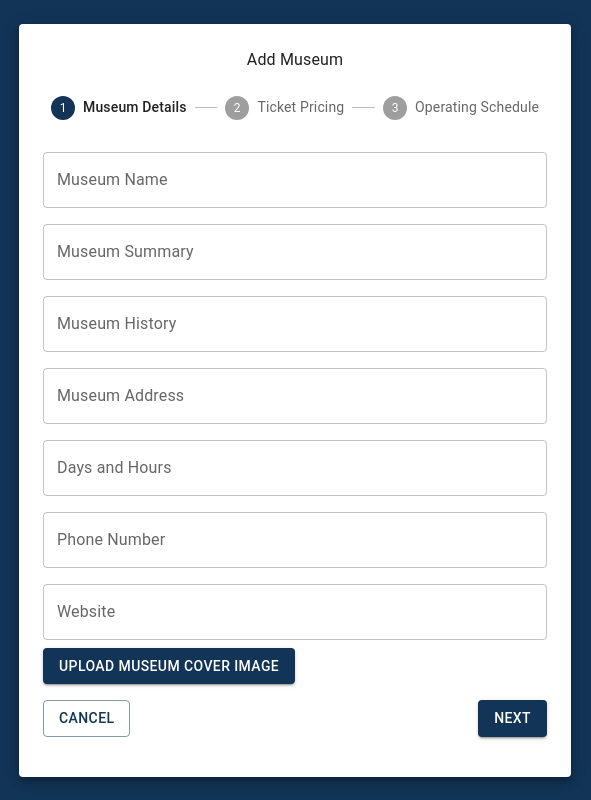
Test: AddMuseum Component › validates museum name
The width and height of the screenshot is (591, 800).
Step 1. Click the button "Next" → (513, 718), box [478,700,547,736]
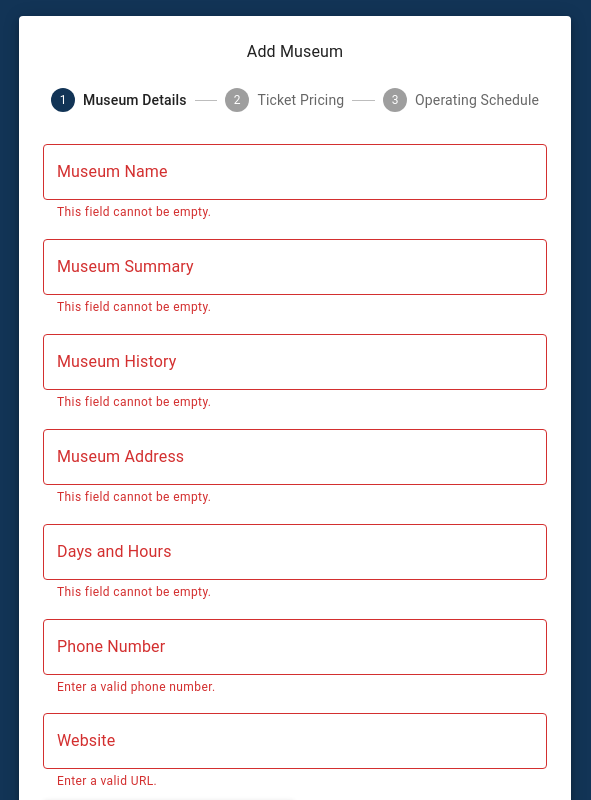
Expected: the text "This field cannot be empty." below "Museum Name" is shown, [57,205,211,219]
